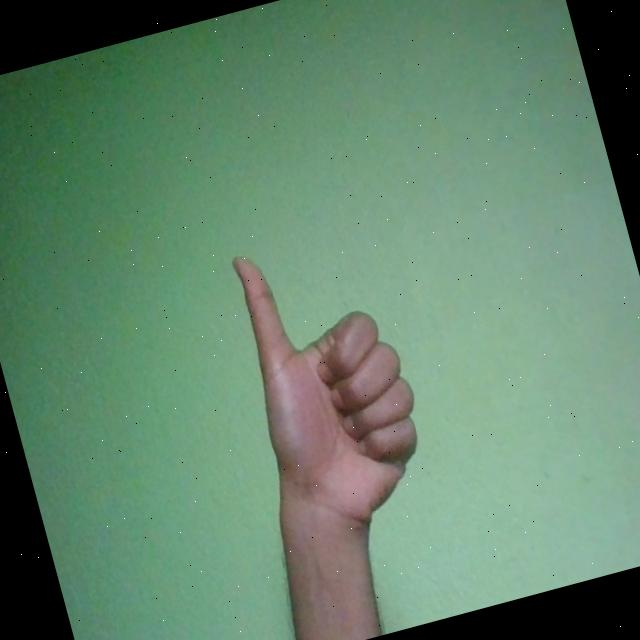Good Job: (221, 220, 443, 546)
